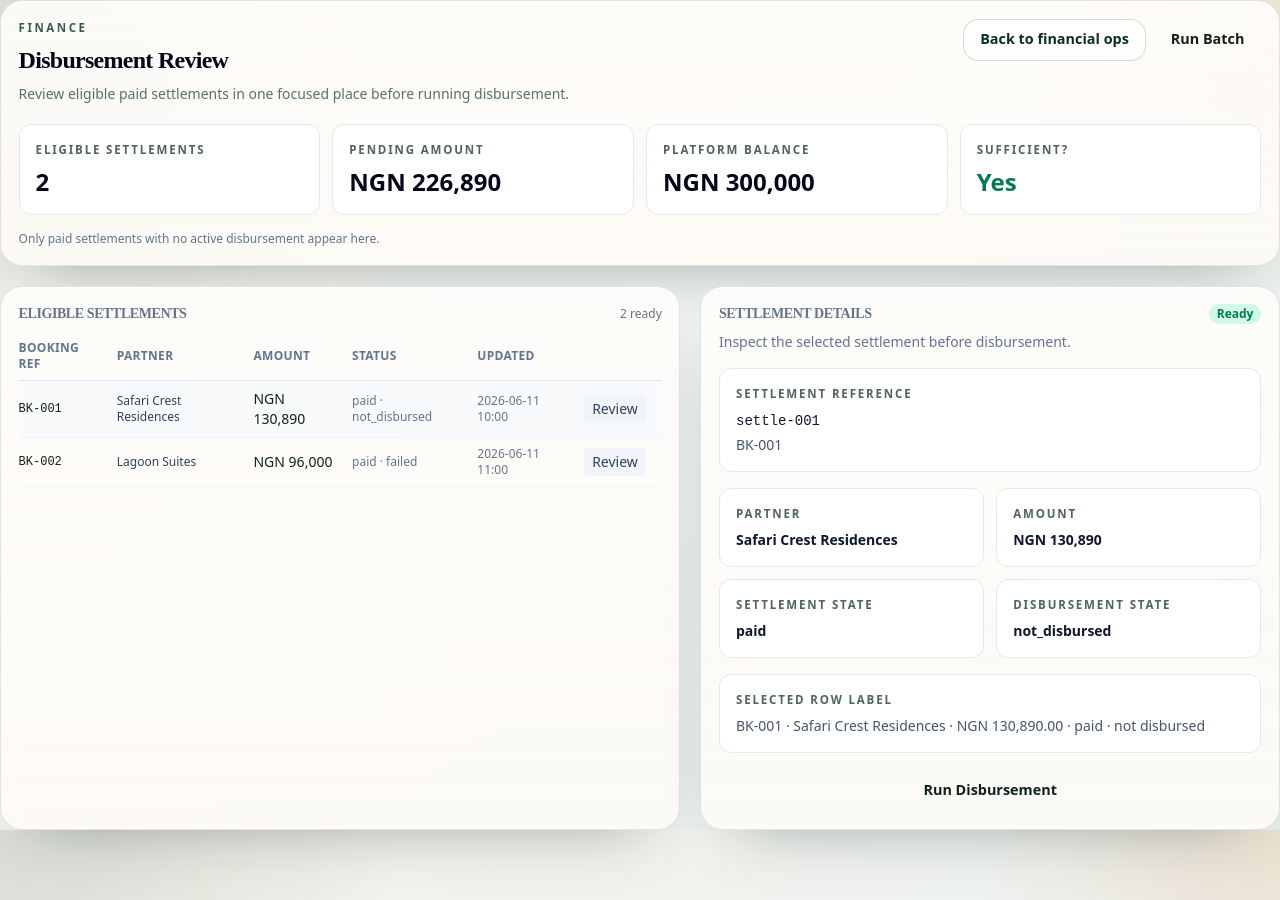
Test: DisbursementReviewClient › runs batch disbursement from the dedicated screen
Click the button "Run Batch".
click(1208, 40)  # box x1=1154 y1=19 x2=1261 y2=61
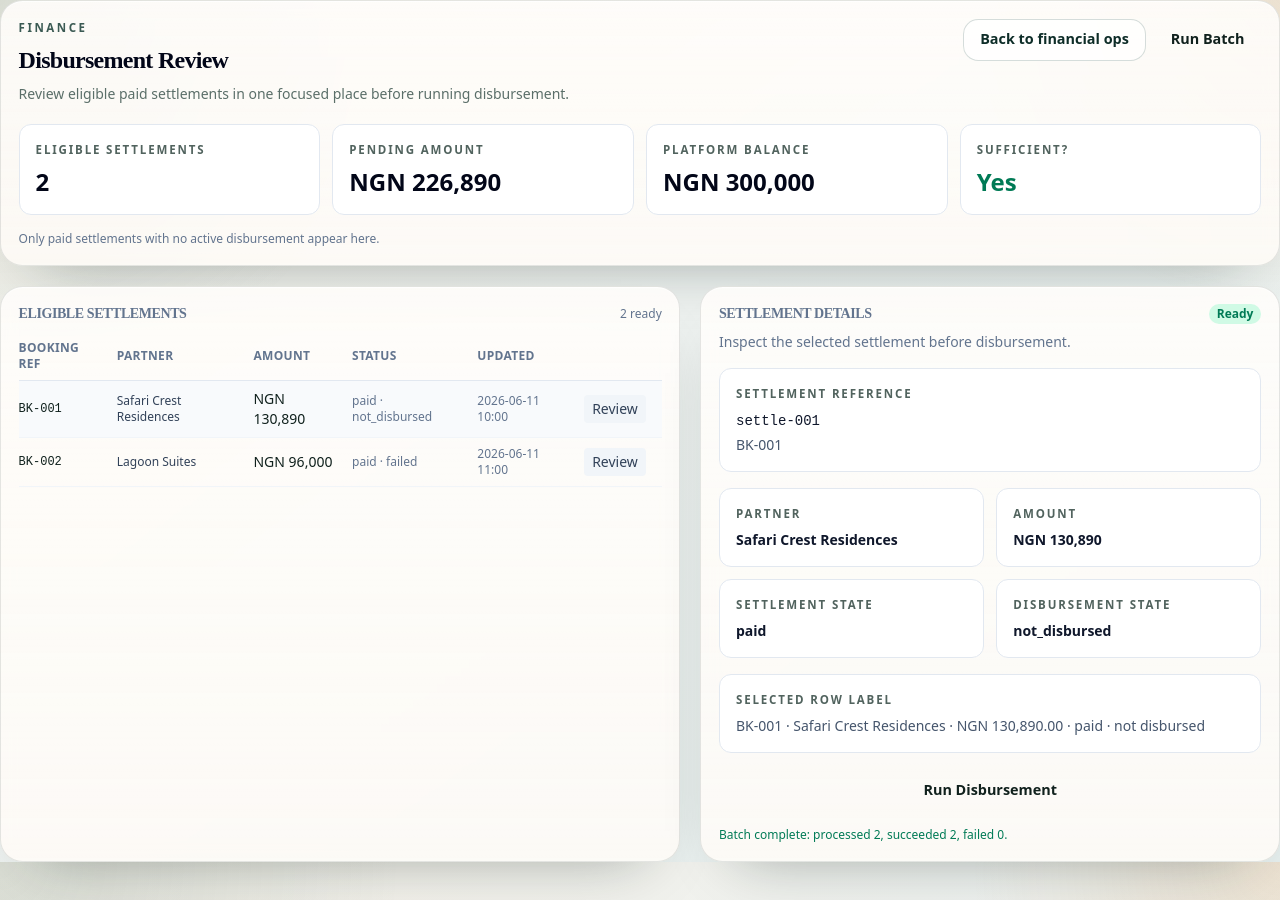
Result: the text "Batch complete: processed 2, succeeded 2, failed 0." is shown at x1=719 y1=826 x2=1007 y2=843
